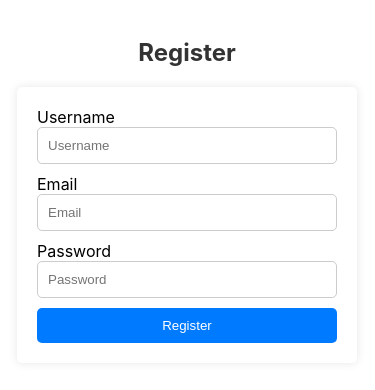
Test case: Register Component › shows error when registration fails
In the field labelled "Username": (187, 146) [37,128,337,164], type "testuser"
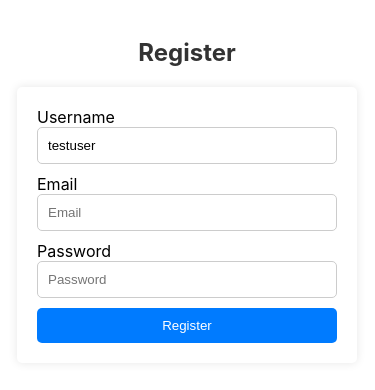
In the field labelled "Email": (187, 213) [37,194,337,232], type "testuser@example.com"
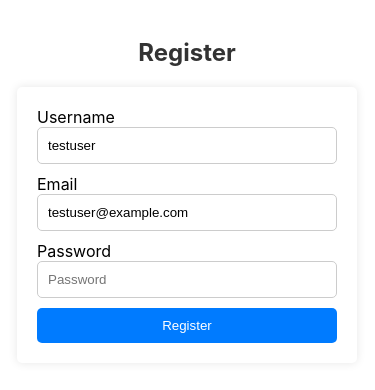
In the password field labelled "Password": (187, 280) [37,262,337,298], type "password123"
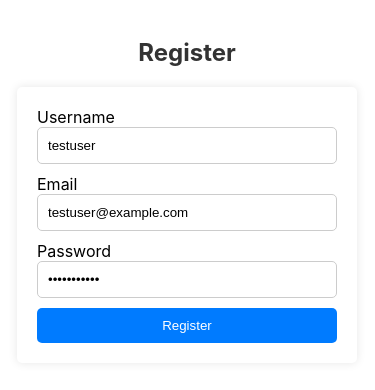
Click the button "Register": (187, 326) [37,308,337,344]
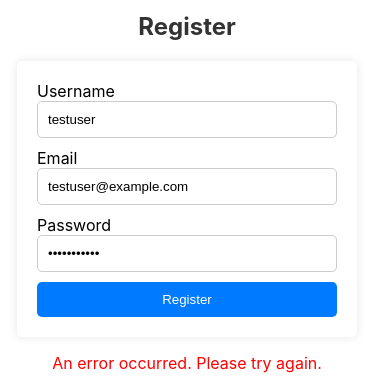
expect the text "An error occurred. Please try again." is shown: met, box [52,354,322,374]
